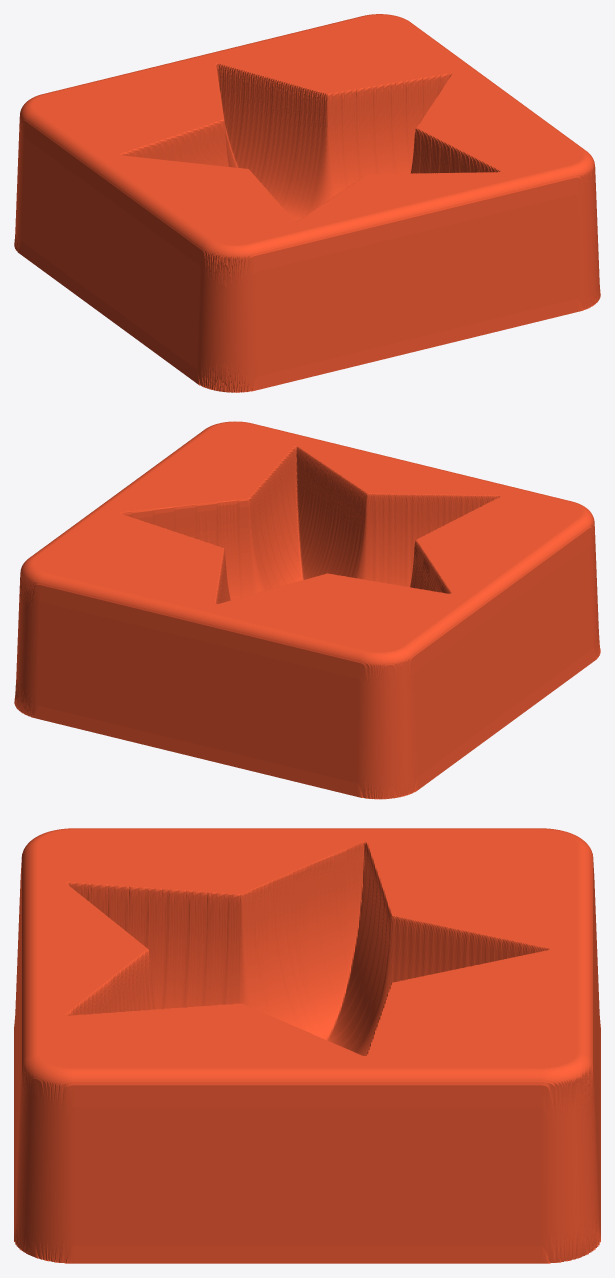
File: mold.glb
3 renders of one model, top to bottom at view 1: azimuth 30°, elevation 25°; view 2: azimuth 150°, elevation 25°; view 3: azimuth 270°, elevation 25°, orthographic. The views are drawn at different scales.
Parts seen in each view (by area): view 1: geometry_0; view 2: geometry_0; view 3: geometry_0.
Part boxes in pixels (x1,y1,x2,y2): geometry_0: [14, 14, 600, 392]; geometry_0: [14, 421, 600, 799]; geometry_0: [14, 828, 600, 1263].
Bounding box in the file's own units: 0.0924 × 0.031 × 0.0888.
